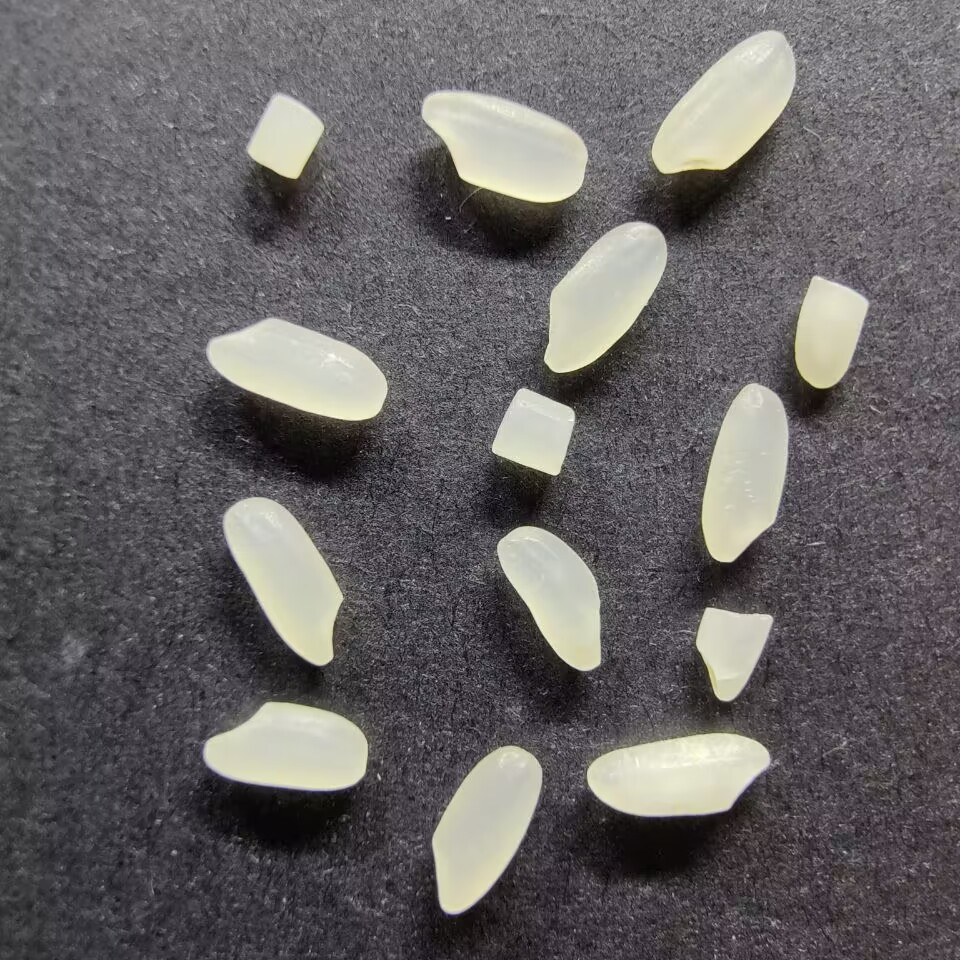broken: (790, 272, 873, 390), (489, 383, 578, 478), (694, 603, 777, 703), (243, 91, 325, 181)
rice: (651, 27, 798, 178), (221, 495, 344, 668), (203, 315, 389, 423), (418, 89, 591, 204), (428, 743, 543, 916), (541, 220, 668, 375), (698, 381, 790, 564), (494, 523, 605, 673), (584, 731, 773, 818), (201, 700, 369, 793)
